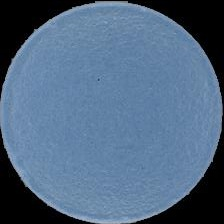69189-0090: (0, 0, 224, 224)
